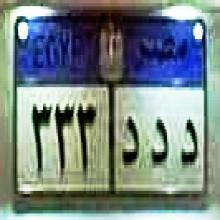3: (30, 96, 52, 178), (54, 93, 74, 179), (77, 98, 97, 176)
daal: (177, 111, 201, 176), (119, 112, 142, 175), (148, 110, 170, 175)
